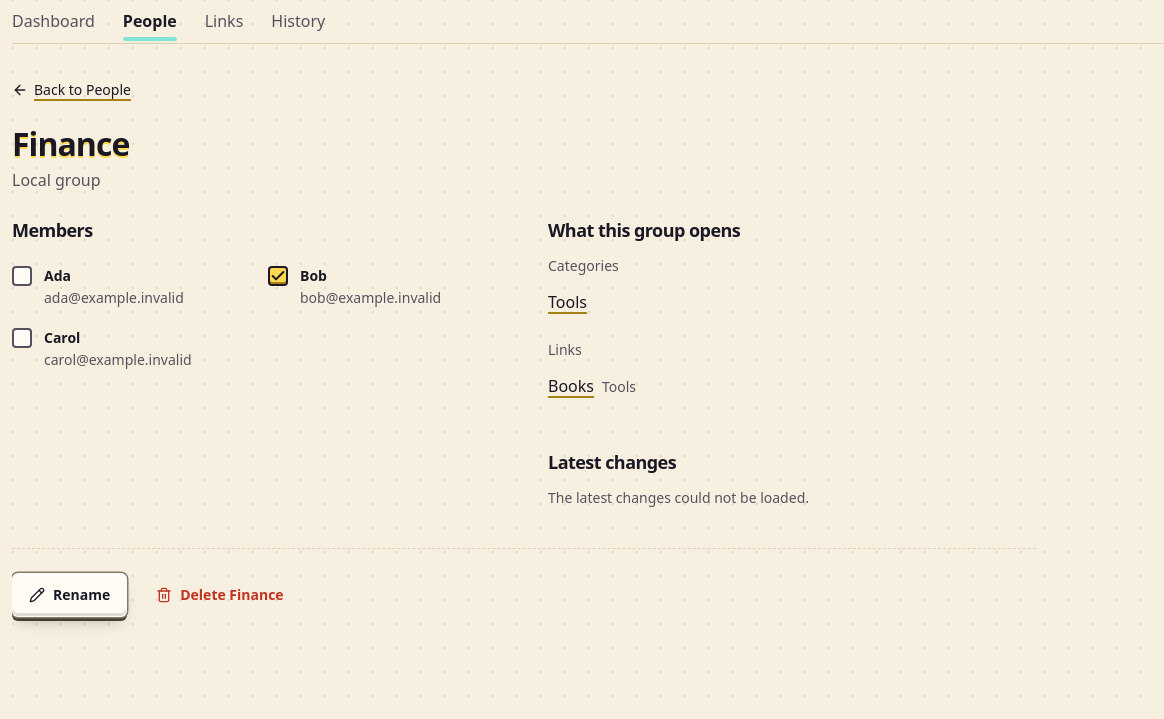
Test: GroupPage › renames in place, the focus back on Rename, and puts name_taken on the field
Expected: the heading "Finance" is shown, 12,124 -> 129,164
Click the button "Rename". click: [70, 595]
box: 12,573 -> 127,617
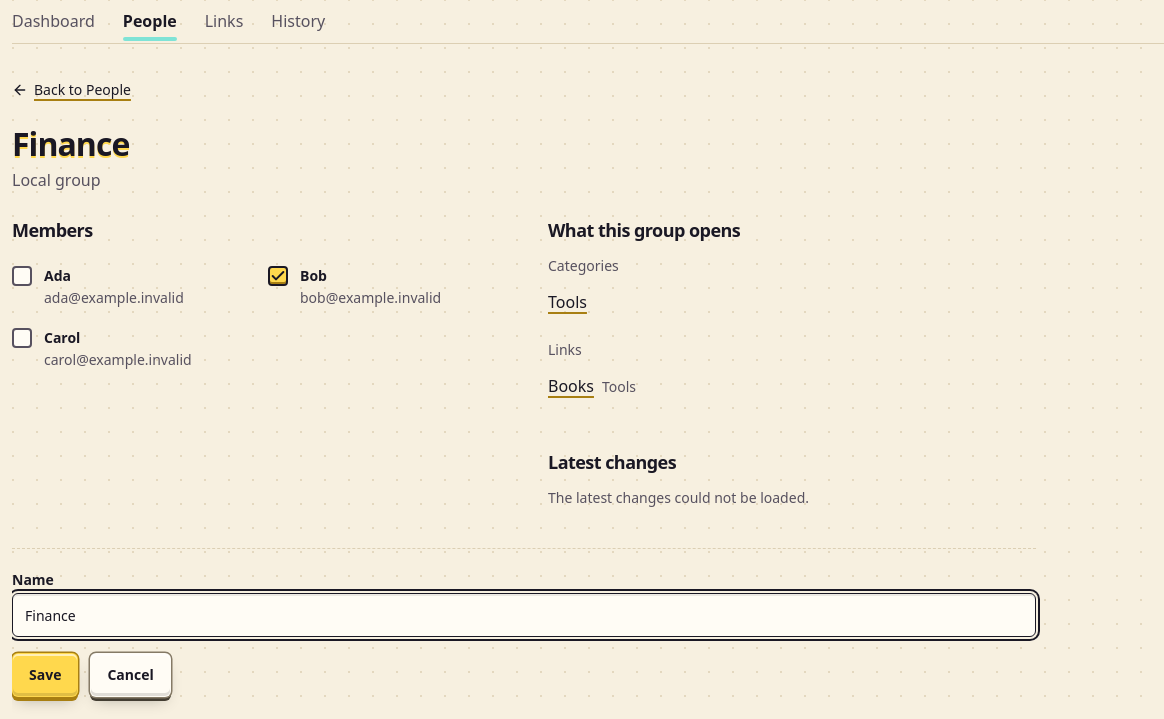
Replace the text in the field labelled "Name" with "Staff". click: [524, 615]
box: 12,593 -> 1036,637
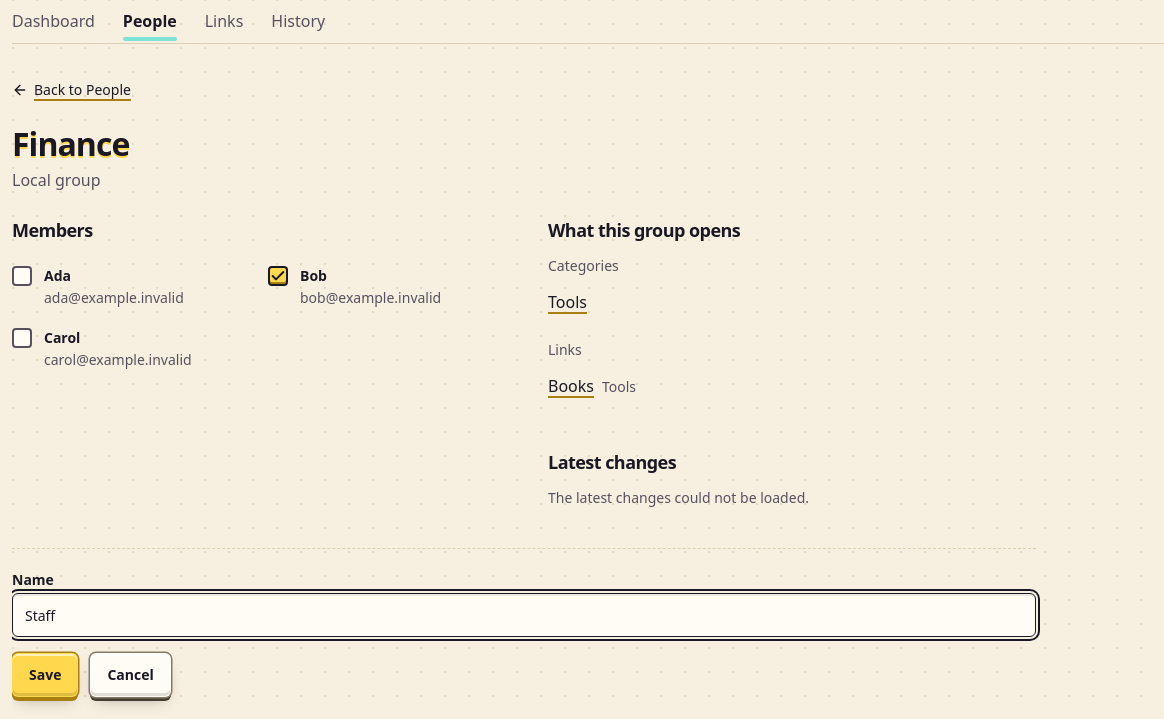
Click the button "Save". click: [45, 675]
box: 12,653 -> 78,697
(page scrolled)
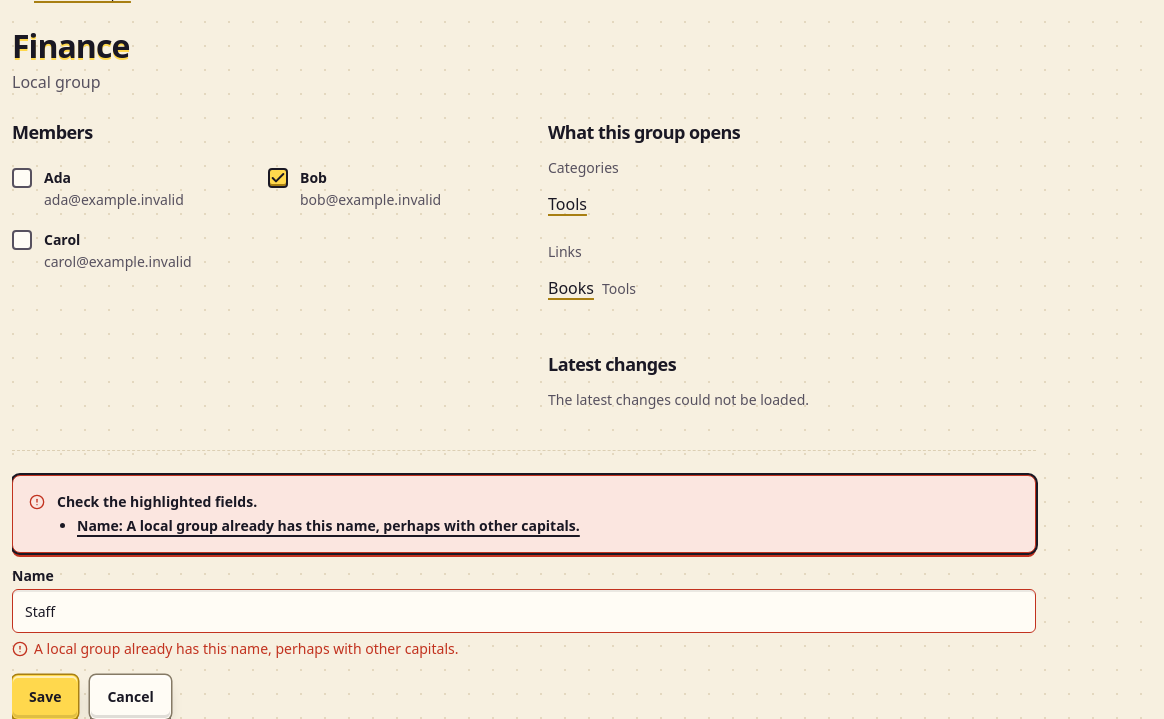
Result: the field labelled "Name" is marked as invalid
Replace the text in the field labelled "Name" with "Accounting". click: [524, 611]
box: 12,589 -> 1036,633
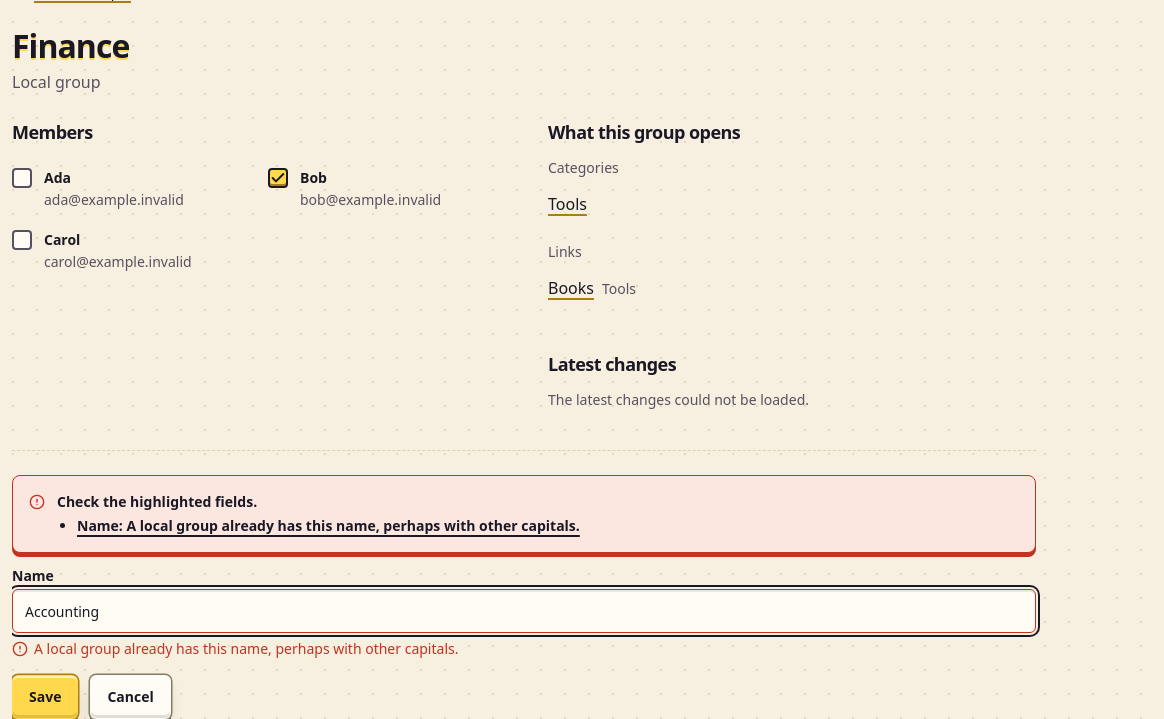
Click the button "Save". click: [45, 697]
box: 12,675 -> 78,718
(page scrolled)
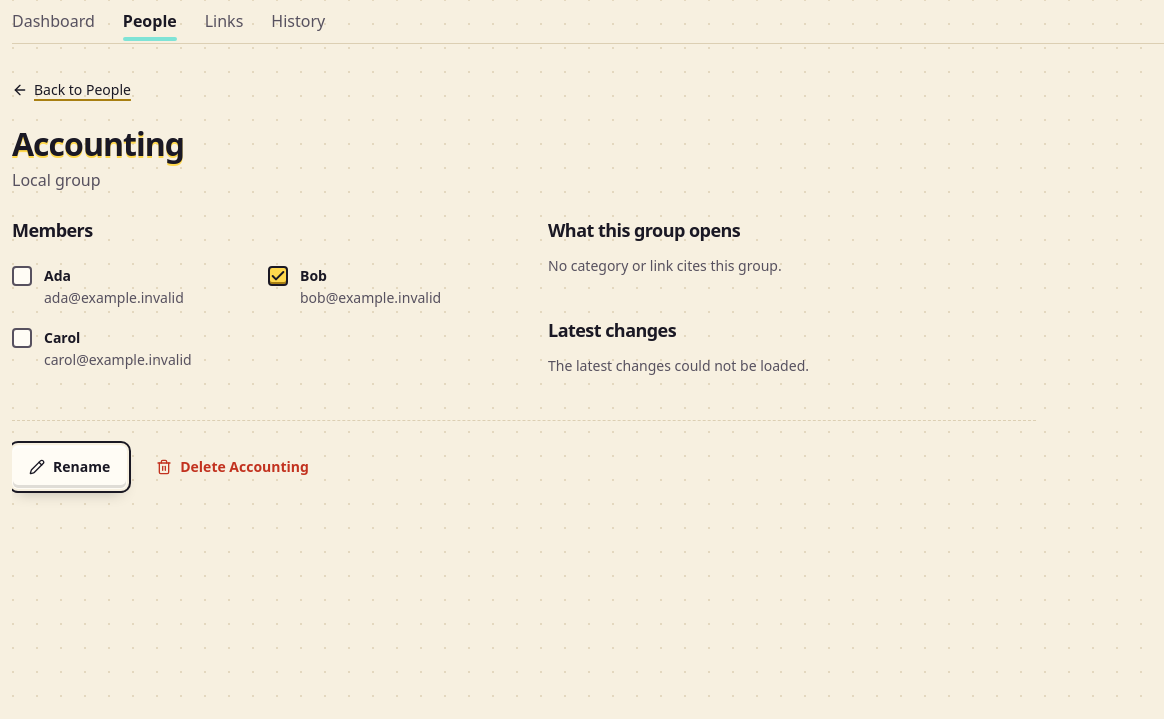
Result: the heading "Accounting" is shown at 12,124 -> 184,164
